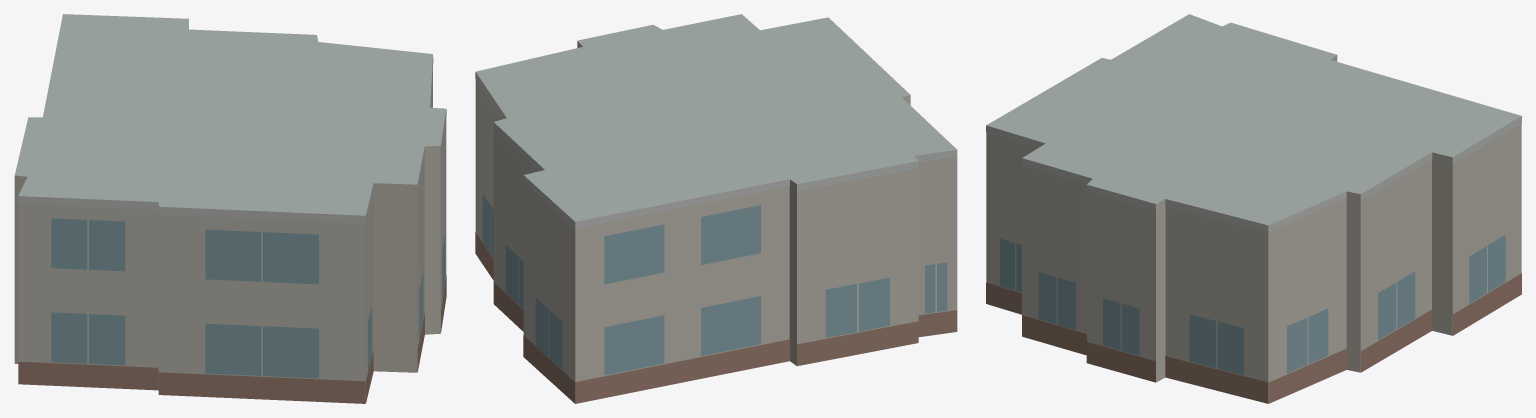
File: survey-upis-32623883.glb
The picture shows the model from 3 angles, left to right: view 1: azimuth 30°, elevation 25°; view 2: azimuth 150°, elevation 25°; view 3: azimuth 270°, elevation 25°; orthographic projection. The views are drawn at different scales.
Parts seen in each view (by area): view 1: survey-upis-32623883.tmp; view 2: survey-upis-32623883.tmp; view 3: survey-upis-32623883.tmp.
Boxes of the visible parts, x1,y1,x2,y2 form: survey-upis-32623883.tmp: [14, 14, 446, 403]; survey-upis-32623883.tmp: [475, 14, 957, 403]; survey-upis-32623883.tmp: [986, 14, 1521, 403].
Size of the model in its own units: 15.5 by 6.1 by 16.6.
